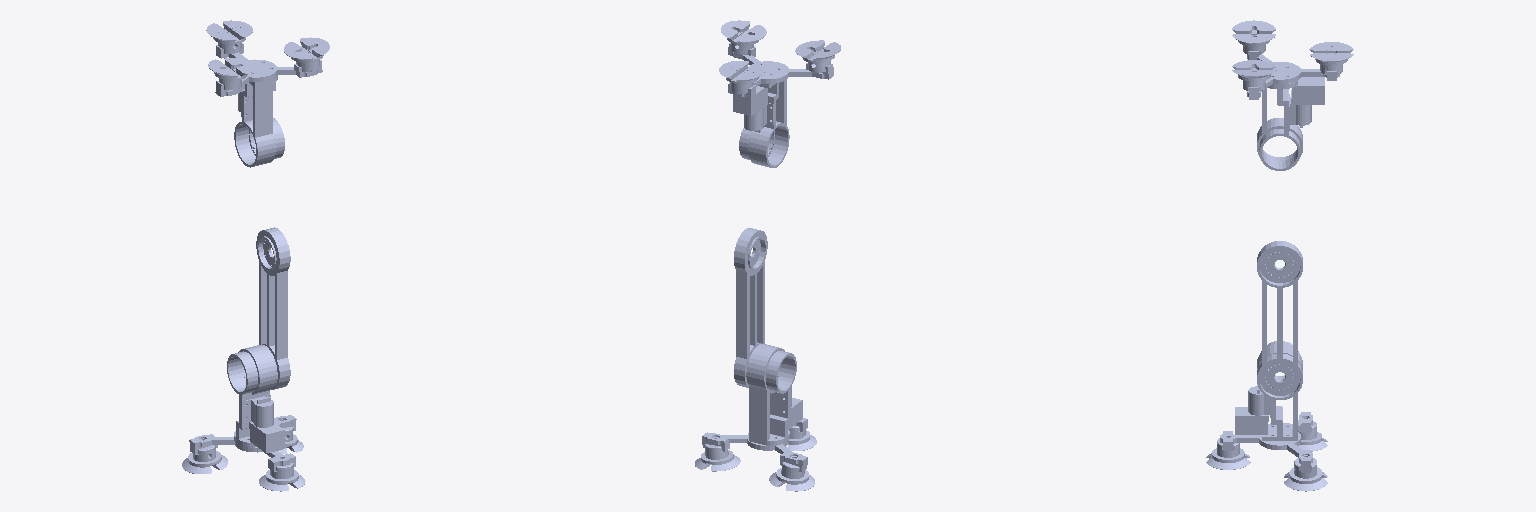
The robot description file, URDF, robot "bigmama0322":
<?xml version="1.0" encoding="utf-8" ?>
<!-- This URDF was automatically created by SolidWorks to URDF Exporter! Originally created by [author] ([email redacted]) 
     Commit Version: 1.6.0-1-g15f4949  Build Version: 1.6.7594.29634
     For more information, please see http://wiki.ros.org/sw_urdf_exporter -->
<robot name="bigmama0322">
    <link name="dummy" />
    <link name="Link_0">
        
<inertial>
            <origin xyz="-0.0037804 -0.0092539 0.032475" rpy="0 0 0" />
            <mass value="0.77237" />
            <inertia ixx="0.0014802" ixy="-1.2948E-05" ixz="1.4235E-05" iyy="0.0014381" iyz="-7.5223E-06" izz="0.0010127" />
        </inertial>

        <visual>
            <origin xyz="0 0 0" rpy="0 0 0" />
            <geometry>
                <mesh filename="package://bigmama0322/meshes/Link_0.STL" />
            </geometry>
            <material name="">
                <color rgba="0.79216 0.81961 0.93333 1" />
            </material>
        </visual>
        <collision>
            <origin xyz="0 0 0" rpy="0 0 0" />
            <geometry>
                <mesh filename="package://bigmama0322/meshes/Link_0.STL" />
            </geometry>
        </collision>
    </link>
    <joint name="dummy_joint" type="fixed">
        <parent link="dummy" />
        <child link="Link_0" />
    </joint>
    <link name="Link_1">
        
<inertial>
            <origin xyz="1.1102E-16 0.12 0.014813" rpy="0 0 0" />
            <mass value="0.28238" />
            <inertia ixx="0.0027445" ixy="2.7687E-20" ixz="1.1384E-20" iyy="0.00019508" iyz="-3.8961E-20" izz="0.0029159" />
        </inertial>

        <visual>
            <origin xyz="0 0 0" rpy="0 0 0" />
            <geometry>
                <mesh filename="package://bigmama0322/meshes/Link_1.STL" />
            </geometry>
            <material name="">
                <color rgba="0.79216 0.81961 0.93333 1" />
            </material>
        </visual>
        <collision>
            <origin xyz="0 0 0" rpy="0 0 0" />
            <geometry>
                <mesh filename="package://bigmama0322/meshes/Link_1.STL" />
            </geometry>
        </collision>
    </link>
    <joint name="Joint_1" type="revolute">
        <origin xyz="0.022 0 0.155" rpy="1.5708 0 1.5708" />
        <parent link="Link_0" />
        <child link="Link_1" />
        <axis xyz="0 0 -1" />
        <limit lower="-3.14" upper="3.14" effort="100" velocity="0.25" />
    </joint>
    <link name="Link_2">
        
<inertial>
            <origin xyz="0 0.098184 -0.051898" rpy="0 0 0" />
            <mass value="0.34516" />
            <inertia ixx="0.0036332" ixy="3.4036E-18" ixz="-4.7012E-19" iyy="0.00034405" iyz="0.00024115" izz="0.0037914" />
        </inertial>

        <visual>
            <origin xyz="0 0 0" rpy="0 0 0" />
            <geometry>
                <mesh filename="package://bigmama0322/meshes/Link_2.STL" />
            </geometry>
            <material name="">
                <color rgba="0.79216 0.81961 0.93333 1" />
            </material>
        </visual>
        <collision>
            <origin xyz="0 0 0" rpy="0 0 0" />
            <geometry>
                <mesh filename="package://bigmama0322/meshes/Link_2.STL" />
            </geometry>
        </collision>
    </link>
    <joint name="Joint_2" type="revolute">
        <origin xyz="0 0.24 0" rpy="0 0 0" />
        <parent link="Link_1" />
        <child link="Link_2" />
        <axis xyz="0 0 -1" />
        <limit lower="-3.14" upper="3.14" effort="100" velocity="0.25" />
    </joint>
    <link name="Link_3">
        
<inertial>
            <origin xyz="0.018256 0.077688 0.029219" rpy="0 0 0" />
            <mass value="0.40524" />
            <inertia ixx="0.0010067" ixy="-1.0212E-05" ixz="-1.2958E-05" iyy="0.00027741" iyz="1.4235E-05" izz="0.0011025" />
        </inertial>

        <visual>
            <origin xyz="0 0 0" rpy="0 0 0" />
            <geometry>
                <mesh filename="package://bigmama0322/meshes/Link_3.STL" />
            </geometry>
            <material name="">
                <color rgba="0.79216 0.81961 0.93333 1" />
            </material>
        </visual>
        <collision>
            <origin xyz="0 0 0" rpy="0 0 0" />
            <geometry>
                <mesh filename="package://bigmama0322/meshes/Link_3.STL" />
            </geometry>
        </collision>
    </link>
    <joint name="Joint_3" type="revolute">
        <origin xyz="0 0.24 -0.0442" rpy="0 0 0" />
        <parent link="Link_2" />
        <child link="Link_3" />
        <axis xyz="0 0 1" />
        <limit lower="-3.14" upper="3.14" effort="100" velocity="0.25" />
    </joint>
    <link name="Link_4">
        
<inertial>
            <origin xyz="-0.03035 -2.1919E-05 -0.024835" rpy="0 0 0" />
            <mass value="0.28366" />
            <inertia ixx="0.00039469" ixy="1.3573E-08" ixz="-2.4944E-06" iyy="0.00034528" iyz="7.1348E-09" izz="0.00068966" />
        </inertial>

        <visual>
            <origin xyz="0 0 0" rpy="0 0 0" />
            <geometry>
                <mesh filename="package://bigmama0322/meshes/Link_4.STL" />
            </geometry>
            <material name="">
                <color rgba="0.79216 0.81961 0.93333 1" />
            </material>
        </visual>
        <collision>
            <origin xyz="0 0 0" rpy="0 0 0" />
            <geometry>
                <mesh filename="package://bigmama0322/meshes/Link_4.STL" />
            </geometry>
        </collision>
    </link>
    <joint name="Joint_4" type="revolute">
        <origin xyz="0 0.145 0.022" rpy="1.5708 0 0" />
        <parent link="Link_3" />
        <child link="Link_4" />
        <axis xyz="0 0 -1" />
        <limit lower="-0.0001" upper="0.0001" effort="0.0001" velocity="0.0001" />
    </joint>
    <link name="Link_forwardsucker">
        
<inertial>
            <origin xyz="0.00022659 1.6931E-08 0.00041075" rpy="0 0 0" />
            <mass value="0.083395" />
            <inertia ixx="3.6333E-05" ixy="6.1527E-10" ixz="-1.8118E-07" iyy="3.2047E-05" iyz="3.9595E-12" izz="4.558E-05" />
        </inertial>

        <visual>
            <origin xyz="0 0 0" rpy="0 0 0" />
            <geometry>
                <mesh filename="package://bigmama0322/meshes/Link_forwardsucker.STL" />
            </geometry>
            <material name="">
                <color rgba="0.79216 0.81961 0.93333 1" />
            </material>
        </visual>
        <collision>
            <origin xyz="0 0 0" rpy="0 0 0" />
            <geometry>
                <mesh filename="package://bigmama0322/meshes/Link_forwardsucker.STL" />
            </geometry>
        </collision>
    </link>
    <joint name="Joint_forwardsucker" type="revolute">
        <origin xyz="0.1 0 -0.035" rpy="0 0 0" />
        <parent link="Link_4" />
        <child link="Link_forwardsucker" />
        <axis xyz="0 0 -1" />
        <limit lower="-0.0001" upper="0.0001" effort="0.0001" velocity="0.0001" />
    </joint>
    <link name="Link_innerfinger">
        
<inertial>
            <origin xyz="-0.0081162 -1.3867E-13 0.004" rpy="0 0 0" />
            <mass value="0.0014267" />
            <inertia ixx="2.0947E-08" ixy="3.6535E-23" ixz="2.1657E-23" iyy="4.4699E-08" iyz="-1.0093E-24" izz="5.0429E-08" />
        </inertial>

        <visual>
            <origin xyz="0 0 0" rpy="0 0 0" />
            <geometry>
                <mesh filename="package://bigmama0322/meshes/Link_innerfinger.STL" />
            </geometry>
            <material name="">
                <color rgba="0.79216 0.81961 0.93333 1" />
            </material>
        </visual>
        <collision>
            <origin xyz="0 0 0" rpy="0 0 0" />
            <geometry>
                <mesh filename="package://bigmama0322/meshes/Link_innerfinger.STL" />
            </geometry>
        </collision>
    </link>
    <joint name="Joint_innerfinger" type="prismatic">
        <origin xyz="0 -0.006 -0.015" rpy="0 0 1.5708" />
        <parent link="Link_forwardsucker" />
        <child link="Link_innerfinger" />
        <axis xyz="-1 0 0" />
        <limit lower="-0.003" upper="0.003" effort="50" velocity="0.005" />
    </joint>
    <link name="Link_exterfinger">
        
<inertial>
            <origin xyz="-0.0081162 1.3101E-13 0.004" rpy="0 0 0" />
            <mass value="0.0014267" />
            <inertia ixx="2.0947E-08" ixy="1.7845E-22" ixz="1.2451E-22" iyy="4.4699E-08" iyz="-2.5106E-26" izz="5.0429E-08" />
        </inertial>

        <visual>
            <origin xyz="0 0 0" rpy="0 0 0" />
            <geometry>
                <mesh filename="package://bigmama0322/meshes/Link_exterfinger.STL" />
            </geometry>
            <material name="">
                <color rgba="0.79216 0.81961 0.93333 1" />
            </material>
        </visual>
        <collision>
            <origin xyz="0 0 0" rpy="0 0 0" />
            <geometry>
                <mesh filename="package://bigmama0322/meshes/Link_exterfinger.STL" />
            </geometry>
        </collision>
    </link>
    <joint name="Joint_exterfinger" type="prismatic">
        <origin xyz="0 0.006 -0.015" rpy="0 0 -1.5708" />
        <parent link="Link_forwardsucker" />
        <child link="Link_exterfinger" />
        <axis xyz="1 0 0" />
        <limit lower="-0.003" upper="0.003" effort="50" velocity="0.005" />
    </joint>
    
<transmission name="trans_Joint_1">
        <type>transmission_interface/SimpleTransmission</type>
        <joint name="Joint_1">
            <hardwareInterface>hardware_interface/PositionJointInterface</hardwareInterface>
        </joint>
        <actuator name="Joint_1_motor">
            <hardwareInterface>hardware_interface/PositionJointInterface</hardwareInterface>
            <mechanicalReduction>1</mechanicalReduction>
        </actuator>
    </transmission>
    <transmission name="trans_Joint_2">
        <type>transmission_interface/SimpleTransmission</type>
        <joint name="Joint_2">
            <hardwareInterface>hardware_interface/PositionJointInterface</hardwareInterface>
        </joint>
        <actuator name="Joint_2_motor">
            <hardwareInterface>hardware_interface/PositionJointInterface</hardwareInterface>
            <mechanicalReduction>1</mechanicalReduction>
        </actuator>
    </transmission>
    <transmission name="trans_Joint_3">
        <type>transmission_interface/SimpleTransmission</type>
        <joint name="Joint_3">
            <hardwareInterface>hardware_interface/PositionJointInterface</hardwareInterface>
        </joint>
        <actuator name="Joint_3_motor">
            <hardwareInterface>hardware_interface/PositionJointInterface</hardwareInterface>
            <mechanicalReduction>1</mechanicalReduction>
        </actuator>
    </transmission>
    <transmission name="trans_Joint_4">
        <type>transmission_interface/SimpleTransmission</type>
        <joint name="Joint_4">
            <hardwareInterface>hardware_interface/PositionJointInterface</hardwareInterface>
        </joint>
        <actuator name="Joint_4_motor">
            <hardwareInterface>hardware_interface/PositionJointInterface</hardwareInterface>
            <mechanicalReduction>1</mechanicalReduction>
        </actuator>
    </transmission>
    <transmission name="trans_Joint_forwardsucker">
        <type>transmission_interface/SimpleTransmission</type>
        <joint name="Joint_forwardsucker">
            <hardwareInterface>hardware_interface/PositionJointInterface</hardwareInterface>
        </joint>
        <actuator name="Joint_forwardsucker_motor">
            <hardwareInterface>hardware_interface/PositionJointInterface</hardwareInterface>
            <mechanicalReduction>1</mechanicalReduction>
        </actuator>
    </transmission>
    <transmission name="trans_Joint_innerfinger">
        <type>transmission_interface/SimpleTransmission</type>
        <joint name="Joint_innerfinger">
            <hardwareInterface>hardware_interface/PositionJointInterface</hardwareInterface>
        </joint>
        <actuator name="Joint_innerfinger_motor">
            <hardwareInterface>hardware_interface/PositionJointInterface</hardwareInterface>
            <mechanicalReduction>1</mechanicalReduction>
        </actuator>
    </transmission>
    <transmission name="trans_Joint_exterfinger">
        <type>transmission_interface/SimpleTransmission</type>
        <joint name="Joint_exterfinger">
            <hardwareInterface>hardware_interface/PositionJointInterface</hardwareInterface>
        </joint>
        <actuator name="Joint_exterfinger_motor">
            <hardwareInterface>hardware_interface/PositionJointInterface</hardwareInterface>
            <mechanicalReduction>1</mechanicalReduction>
        </actuator>
    </transmission>
    <gazebo reference="Link_4">
        <material>Gazebo/Yellow</material>
        <mu1>5</mu1>
        <mu2>5</mu2>
        <fdir1>1 0 0</fdir1>
    </gazebo>
    <gazebo reference="Link_forwardsucker">
        <material>Gazebo/Orange</material>
        <mu1>5</mu1>
        <mu2>5</mu2>
        <fdir1>1 0 0</fdir1>
    </gazebo>
    <gazebo reference="Link_innerfinger">
        <material>Gazebo/Red</material>
        <mu1>0</mu1>
        <mu2>0</mu2>
        <fdir1>0 0 0</fdir1>        
    </gazebo>
    <gazebo reference="Link_exterfinger">
        <material>Gazebo/Red</material>
        <mu1>0</mu1>
        <mu2>0</mu2>
        <fdir1>0 0 0</fdir1>
    </gazebo>
    <gazebo reference="Link_0">
        <material>Gazebo/Green</material>
        <mu1>0.9</mu1>
        <mu2>0.9</mu2>
        <fdir1>1 0 0</fdir1>
    </gazebo>
    <gazebo>
     <plugin name="gazebo_grasp_fix" filename="libgazebo_grasp_fix.so">
           <arm>
             <arm_name>arm_bigmama</arm_name>
             <palm_link>Link_forwardsucker</palm_link>
             <gripper_link>Link_innerfinger</gripper_link>
             <gripper_link>Link_exterfinger</gripper_link>
           </arm>
       <forces_angle_tolerance>150</forces_angle_tolerance>
       <update_rate>130</update_rate>
       <grip_count_threshold>2</grip_count_threshold>
       <max_grip_count>8</max_grip_count>
       <release_tolerance>0.01</release_tolerance>
       <disable_collisions_on_attach>true</disable_collisions_on_attach>
       <contact_topic>__default_topic__</contact_topic>
     </plugin>
    </gazebo>
    <gazebo>
        <plugin name="gazebo_ros_control" filename="libgazebo_ros_control.so">
            <robotNamespace>/</robotNamespace>
        </plugin>
    </gazebo>
</robot>

--- Facts derived from the render (not from the file) ---
Views: 3 orthographic renders of the robot side by side, from view 1: azimuth 30°, elevation 25°; view 2: azimuth 150°, elevation 25°; view 3: azimuth 270°, elevation 25°.
Robot: bigmama0322 — 9 links, 8 joints (5 revolute, 2 prismatic, 1 fixed); root link dummy; default pose: every joint at zero.
Links seen in each view (by area): view 1: Link_0, Link_1, Link_4, Link_3, Link_forwardsucker; view 2: Link_0, Link_1, Link_3, Link_4, Link_forwardsucker; view 3: Link_0, Link_1, Link_3, Link_4, Link_forwardsucker.
Link boxes in pixels (x1,y1,x2,y2): Link_0: (182,344,305,491); Link_1: (256,227,290,389); Link_4: (208,37,329,96); Link_3: (234,75,284,167); Link_forwardsucker: (206,20,252,53); Link_0: (695,344,816,491); Link_1: (734,228,767,387); Link_3: (733,80,789,167); Link_4: (721,20,840,98); Link_forwardsucker: (719,61,764,93); Link_0: (1206,341,1327,491); Link_1: (1257,241,1302,399); Link_3: (1257,77,1324,170); Link_4: (1232,20,1339,99); Link_forwardsucker: (1309,42,1353,74).
Size in the robot's own frame: 0.2553 by 0.2868 by 0.8854 metres.
7 mesh visuals loaded from 8 distinct referenced files (7 binary STL); not drawn: 1 (reference not matched to a file when rendering).
